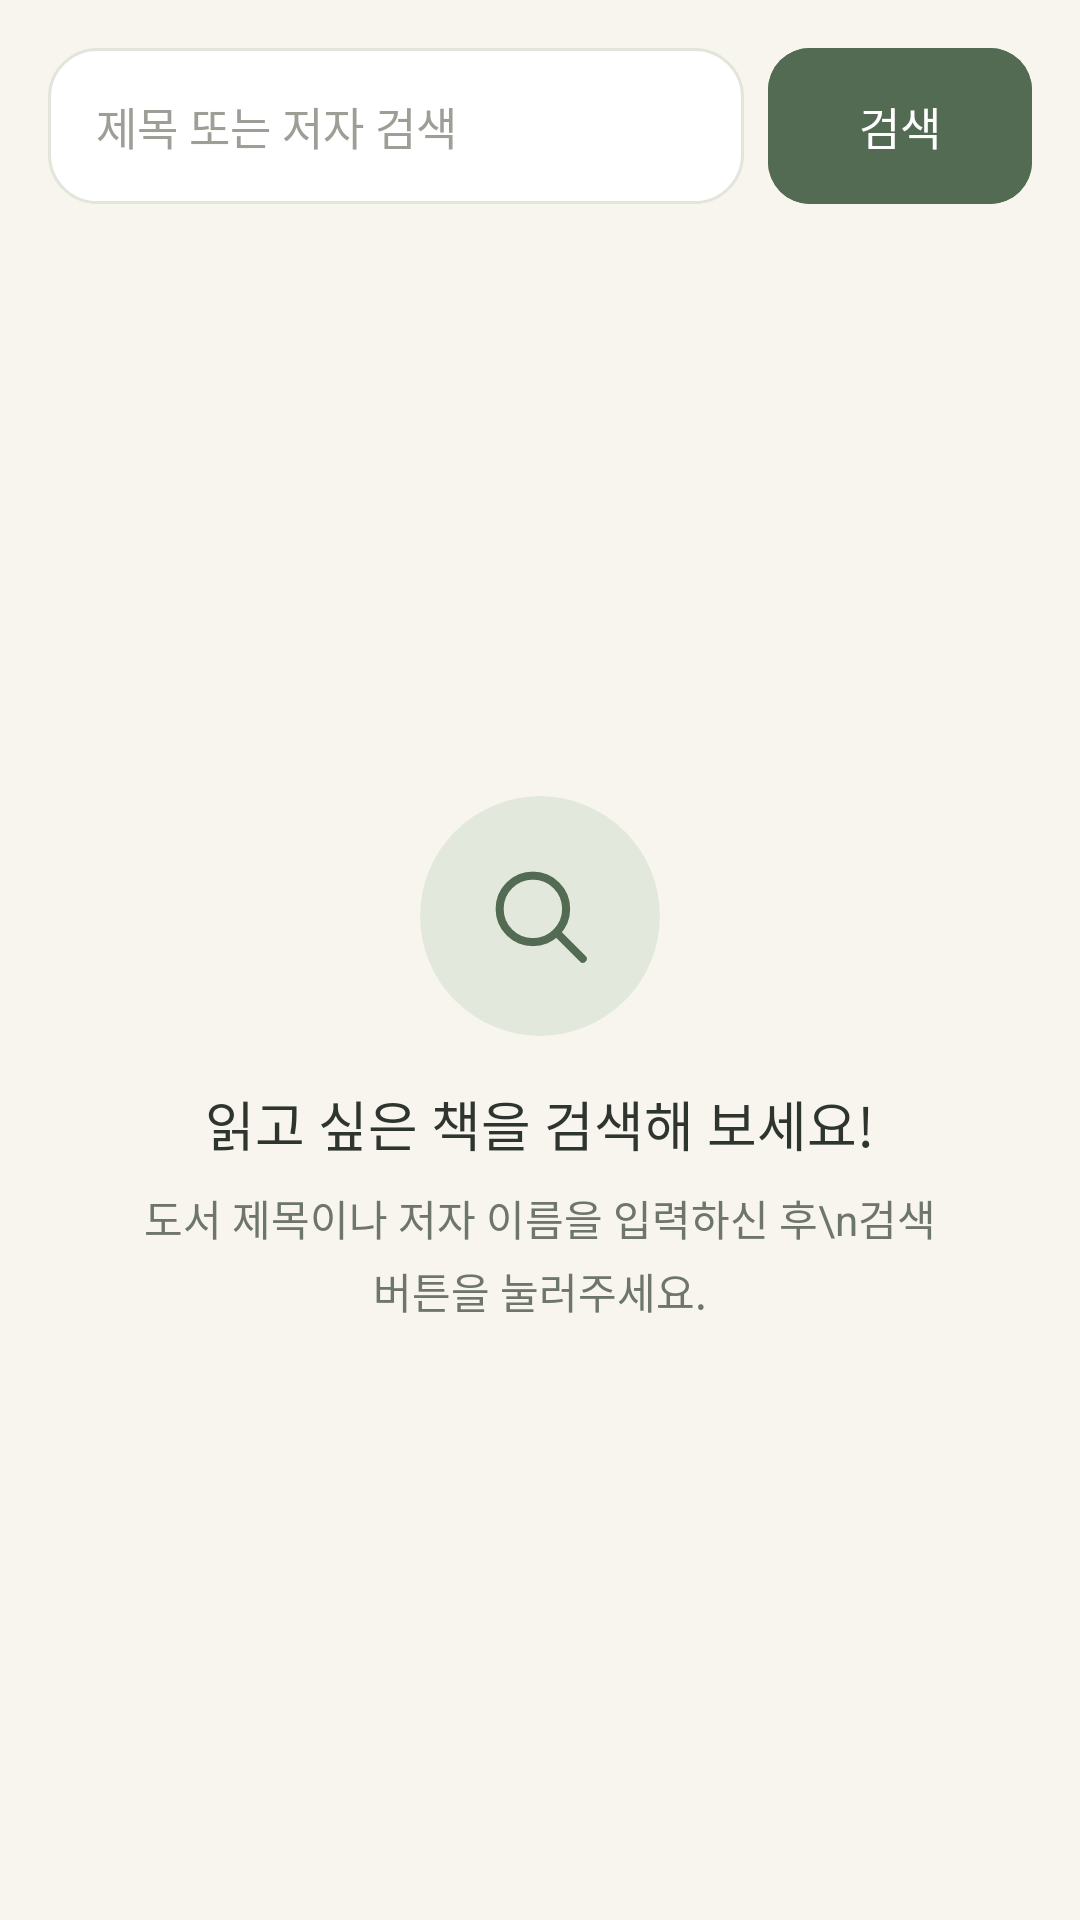

Point at icon controls on the screen. Image size 1080px×1920px, points as (x=x, y=y).
search icon: (x=541, y=917)
